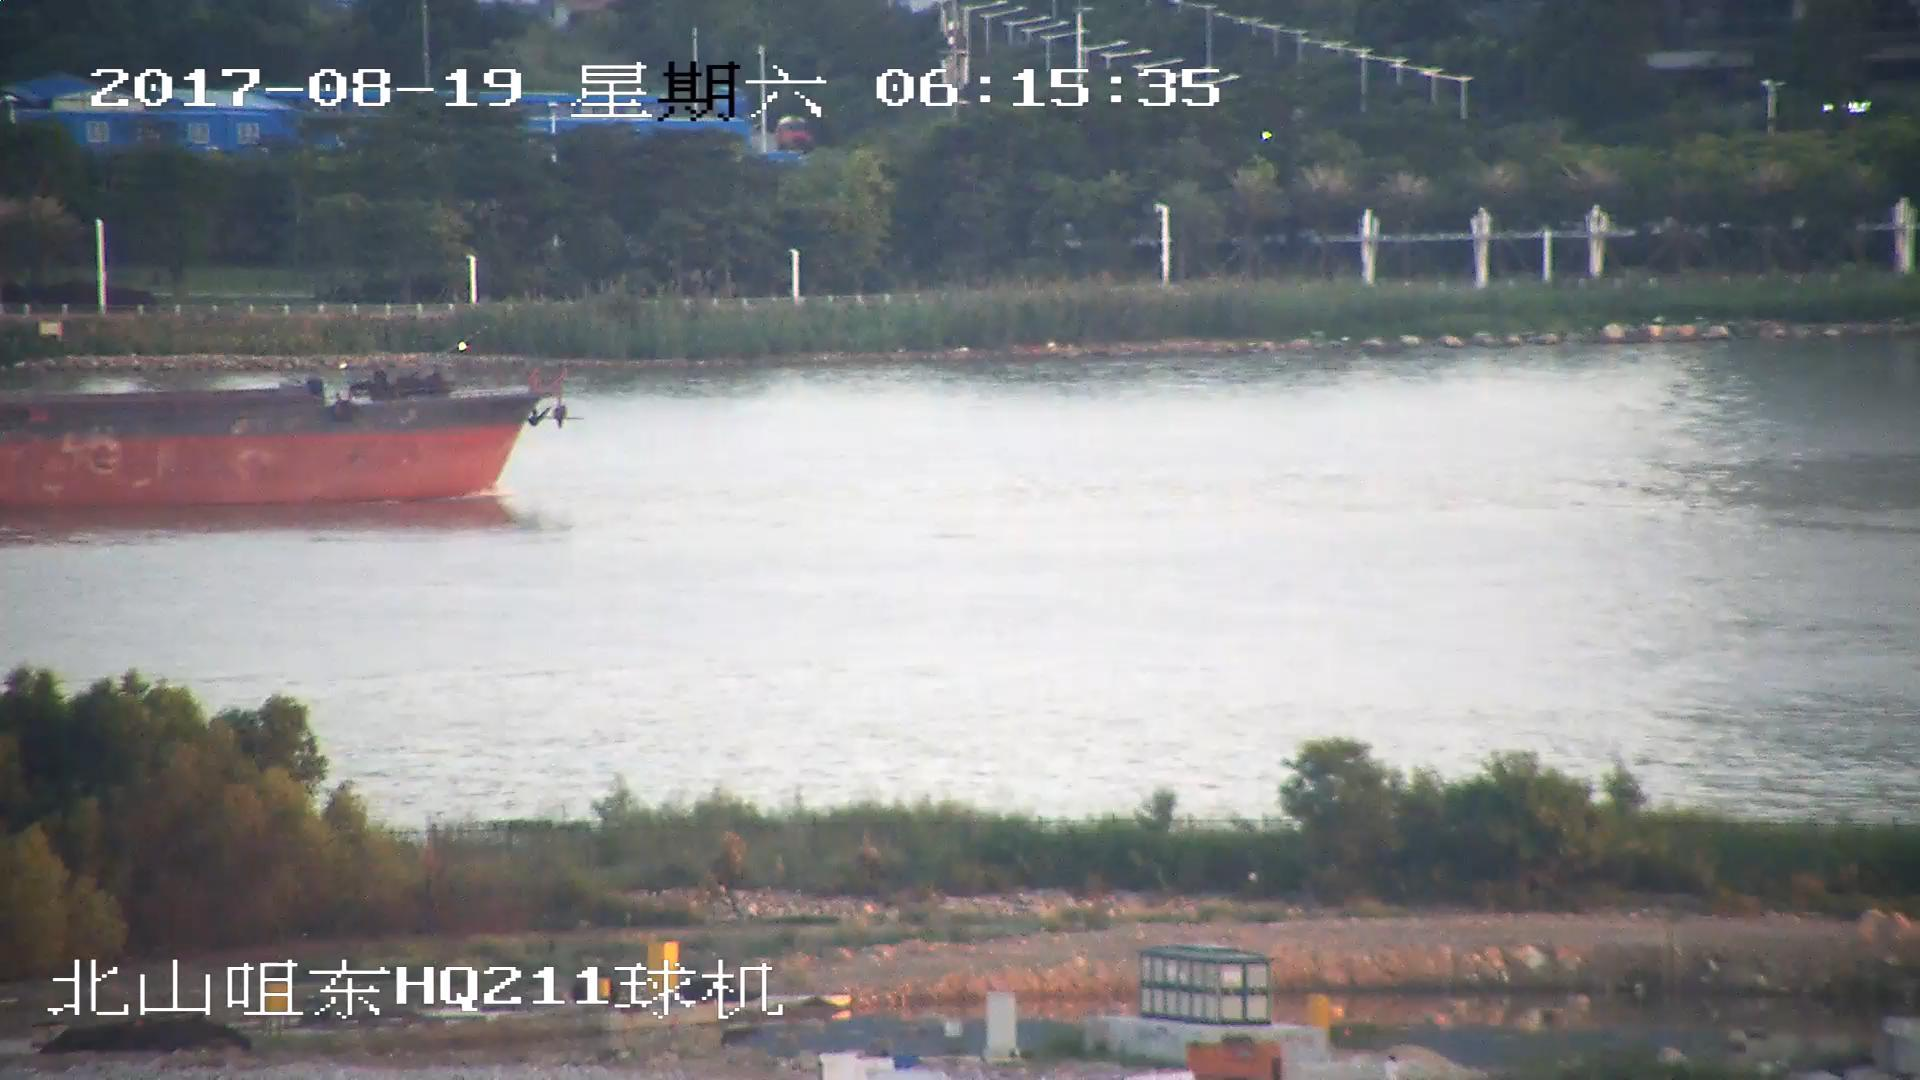Ship: (3, 345, 566, 506)
